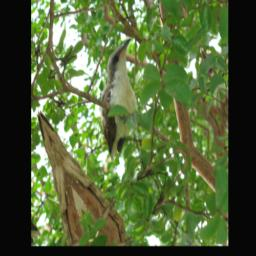Cuckoo: (78, 34, 163, 165)
